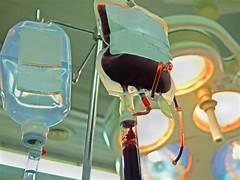Iv_Bottle: (0, 21, 71, 144)
